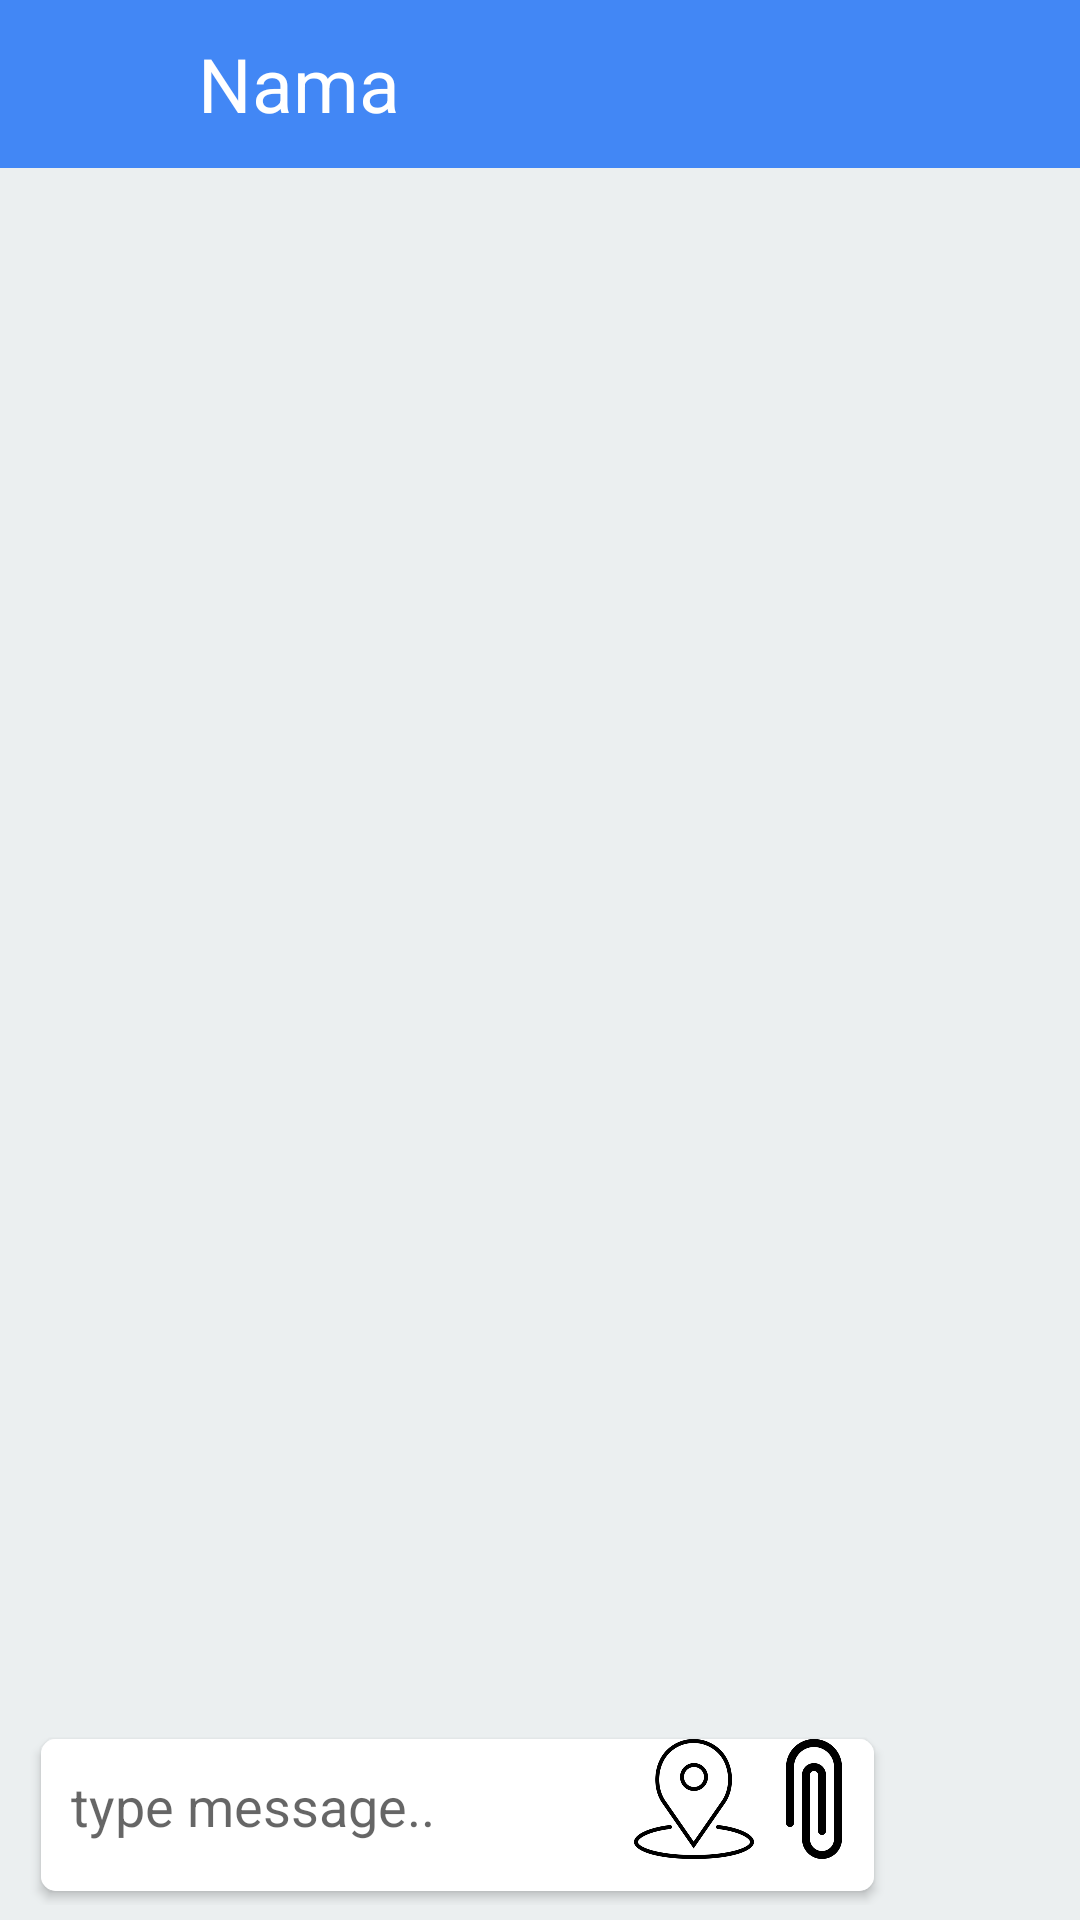

Icons on this 1080 × 1920 Android screen, each with its box as bbox(x1, y1, x2, y2):
paperclip: bbox(786, 1739, 874, 1859)
